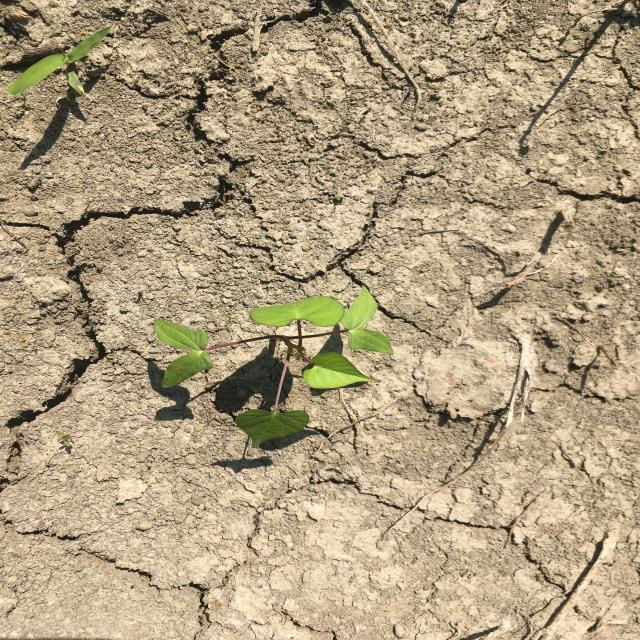MorningGlory: (150, 284, 396, 450)
